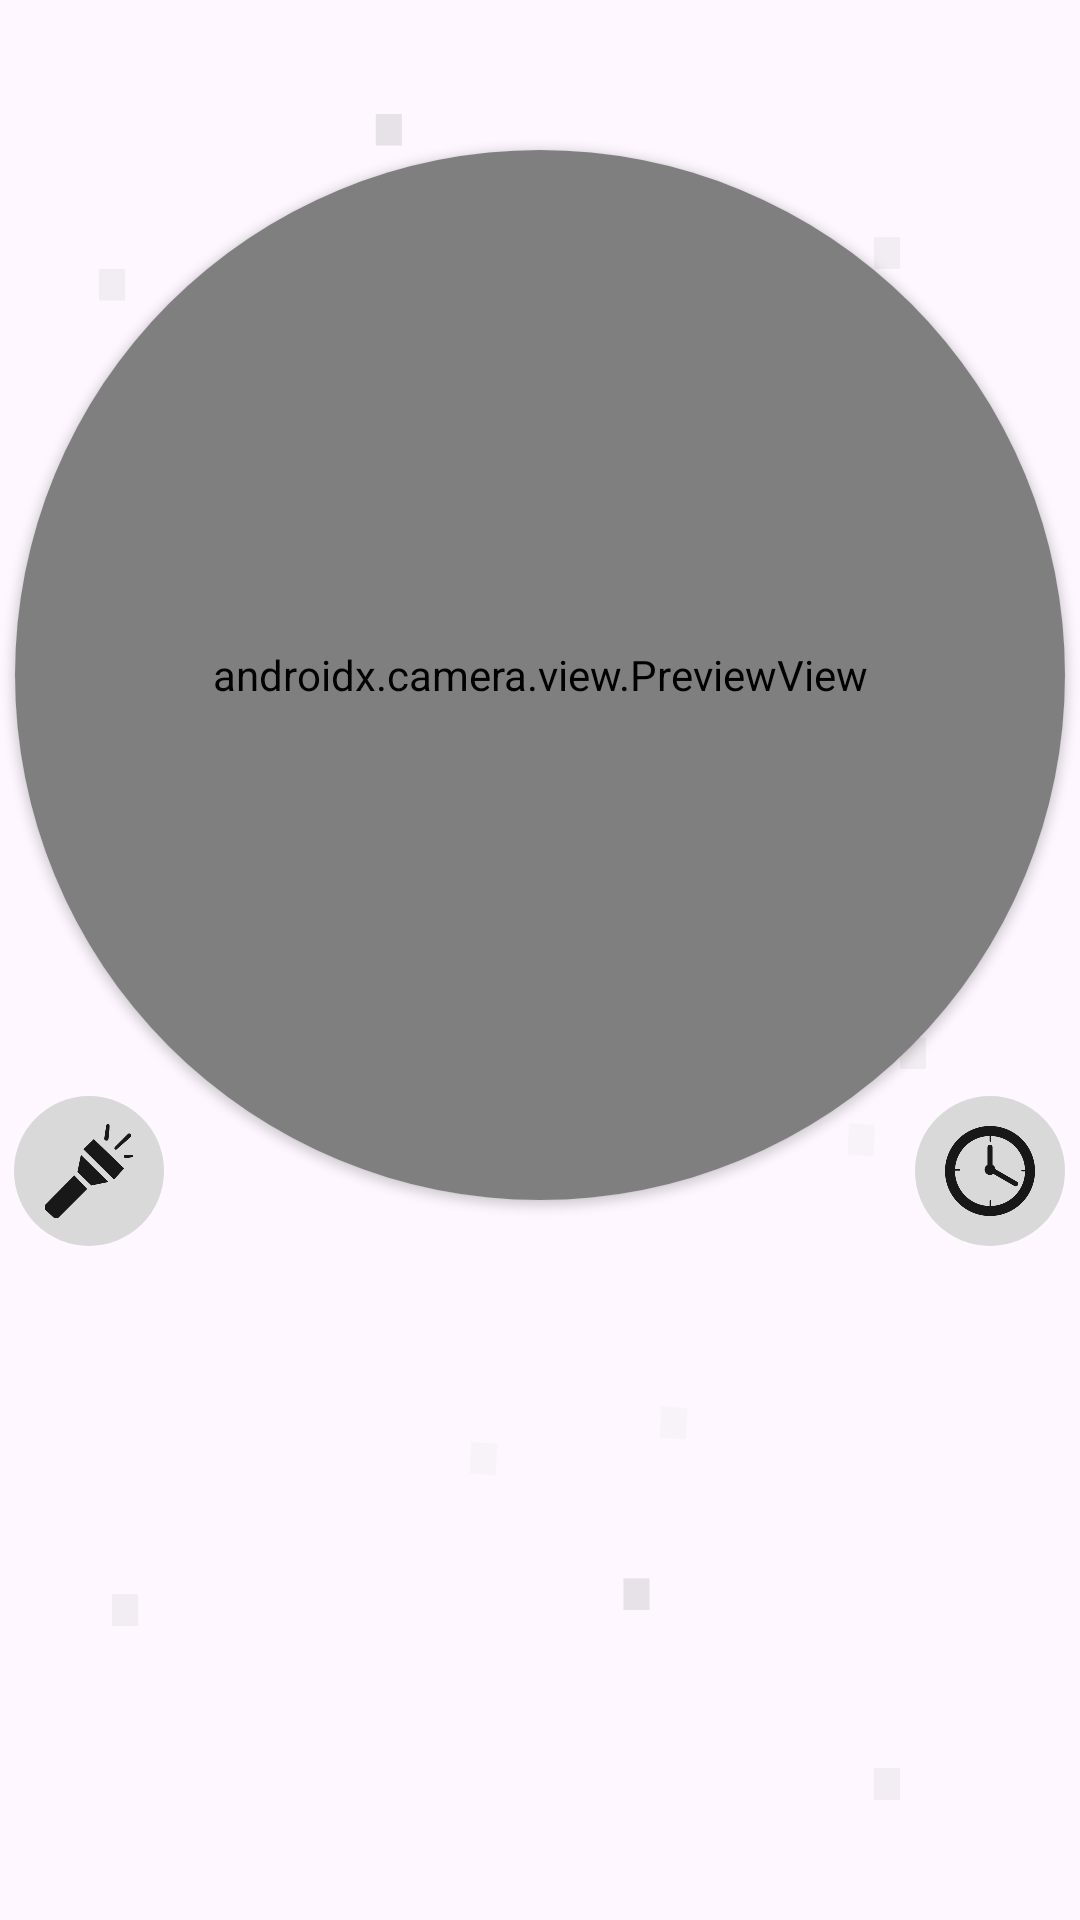

Screen size 1080px x 1920px. Icon name, then its center in pixels as (x,y):
flashlight: (89,1171)
history: (990,1171)
